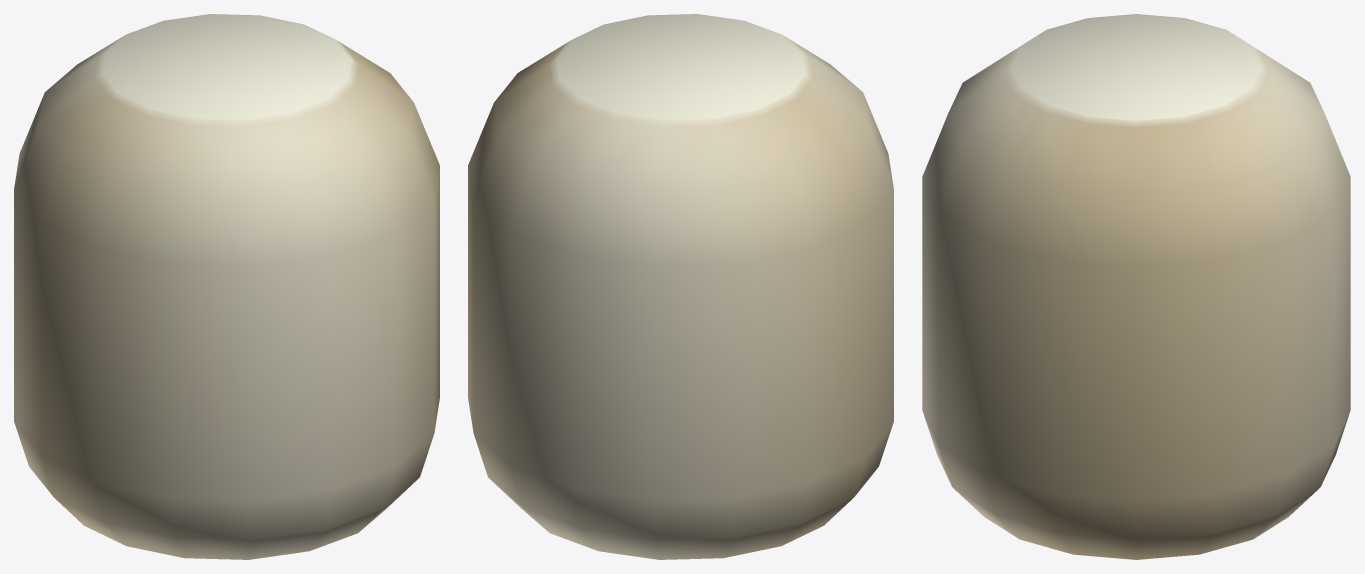
File: 新雪糕工厂-雪糕原料混合机011.FBX
3 views of the same model, side by side, from view 1: azimuth 30°, elevation 25°; view 2: azimuth 150°, elevation 25°; view 3: azimuth 270°, elevation 25° (orthographic).
Parts seen in each view (by area): view 1: 新雪糕工厂-雪糕原料混合机011; view 2: 新雪糕工厂-雪糕原料混合机011; view 3: 新雪糕工厂-雪糕原料混合机011.
Part boxes in pixels (x1,y1,x2,y2): 新雪糕工厂-雪糕原料混合机011: [14, 14, 439, 559]; 新雪糕工厂-雪糕原料混合机011: [468, 14, 893, 559]; 新雪糕工厂-雪糕原料混合机011: [922, 14, 1350, 559].
Size of the model in its own units: 23.33 by 26.8 by 23.33.
1 material, 1 textured.
